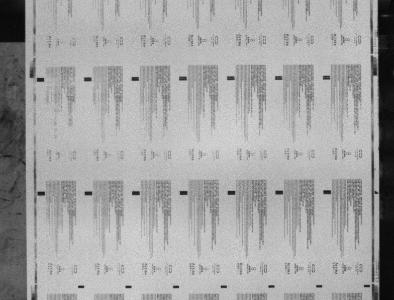incorrect qblock: (323, 75, 331, 80), (180, 190, 188, 195), (228, 190, 236, 195), (131, 77, 140, 81), (323, 190, 332, 194), (275, 76, 283, 80), (85, 191, 93, 195), (132, 191, 140, 195), (179, 76, 187, 80), (227, 76, 235, 80), (276, 190, 284, 194), (84, 77, 92, 81)
qblock: (36, 77, 45, 82), (37, 192, 45, 196)
smallqblock: (78, 285, 85, 288), (125, 285, 132, 288), (173, 285, 180, 288), (221, 285, 228, 288), (316, 284, 323, 287), (364, 284, 371, 287), (269, 285, 275, 288)
